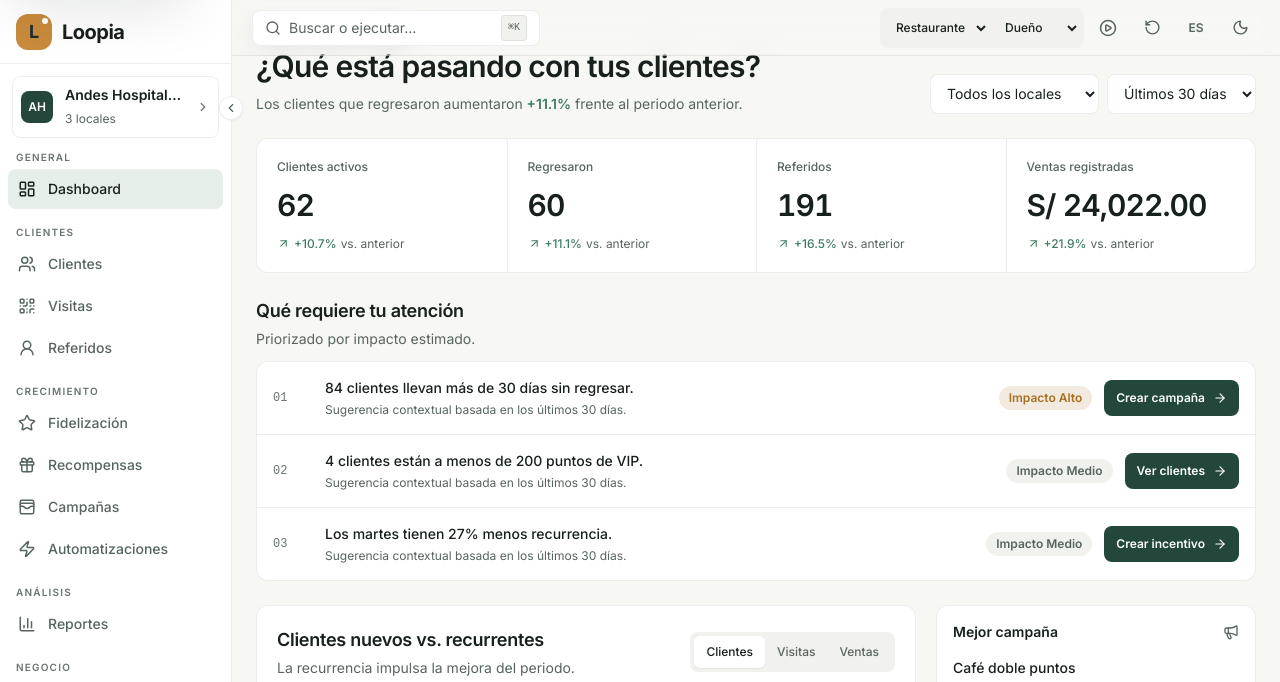
Test: demo role switch opens intentional staff shell
(page scrolled)
Select "Personal" in the dropdown named "Rol demo" at (1036,28), box [993,12,1080,44]
(page scrolled)
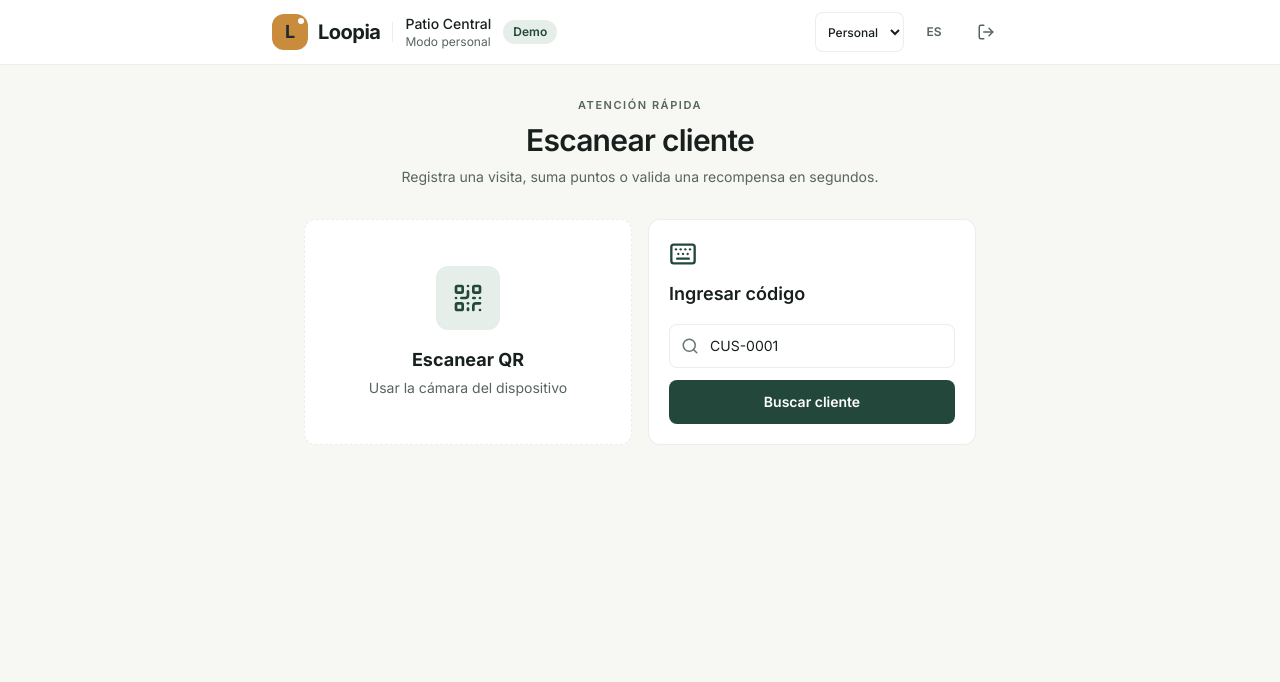
Check: the text "Modo personal" is shown, box [406,34,491,50]
Check: the text "Crecimiento" is gone
